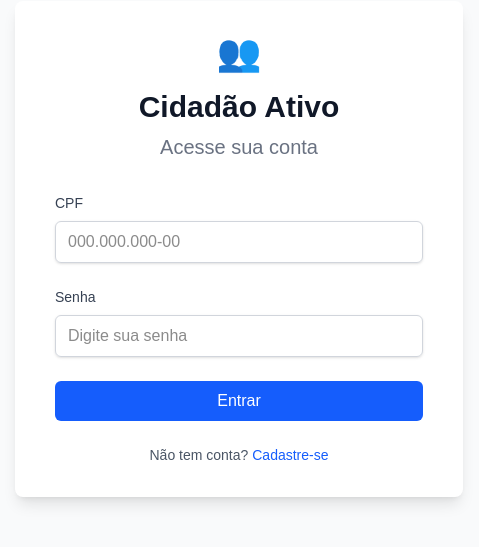
Test: Login Component › Form Validation › should clear CPF error when user starts typing
The image size is (479, 547).
// Submit to show error
Click the button "Entrar" at (239, 401), box [55,381,423,421]
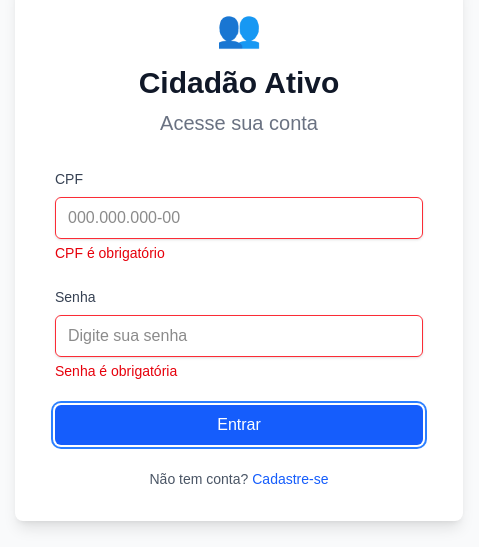
Expected: the text "CPF é obrigatório" is shown, [55,245,165,261]
// Type to clear error
Type "1" into the field labelled "CPF" at (239, 218), box [55,197,423,239]
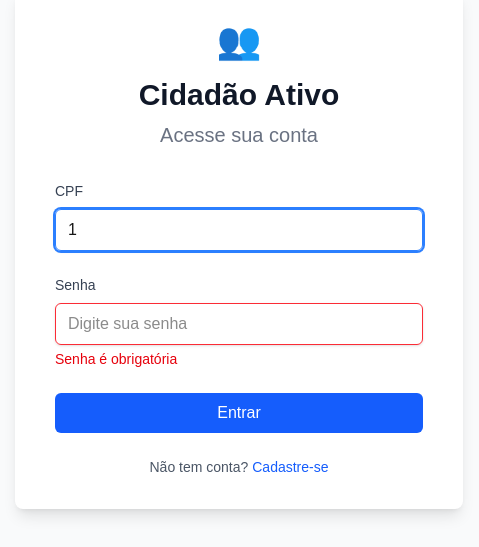
Expected: the text "CPF é obrigatório" is gone
